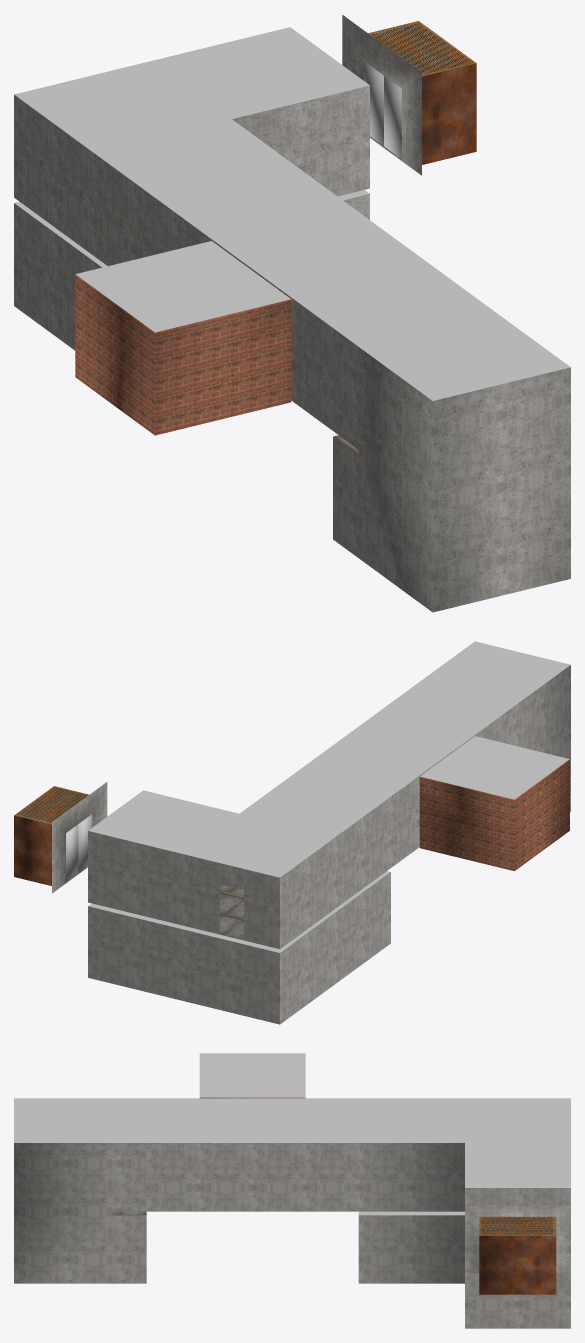
File: LabirintEditor.fbx
3 views of the same model, one above another, from view 1: azimuth 30°, elevation 25°; view 2: azimuth 150°, elevation 25°; view 3: azimuth 270°, elevation 25° (orthographic). The views are drawn at different scales.
Parts seen in each view (by area): view 1: Wals.6, Up.2.2, Wals.2, Wals.5, Up, Up.7, Up.6, Wals.3, Wals, Lift, Lipht, Wals_Door (+3 smaller); view 2: Up.2.2, Wals.3, Wals.2, Wals.5, Up, DopWall2.2, Up.7, DopWall2, Up.6, Wals.6, Wals, Lift (+7 smaller); view 3: Wals.6, Up.2.2, Wals_Door, Up, Wals.2, Wals.3, Wals, Up.7, Up.6, Lift, DpWal.2, Lipht (+3 smaller).
Part boxes in pixels (x1,y1,x2,y2): Wals.6: (333,328,570,612); Up.2.2: (14,27,369,211); Wals.2: (14,85,369,265); Wals.5: (75,274,291,435); Up: (174,177,470,327); Up.7: (333,294,570,400); Up.6: (75,241,290,332); Wals.3: (14,194,369,350); Wals: (173,212,332,430); Lift: (422,63,476,164); Lipht: (342,15,421,175); Wals_Door: (173,213,332,428); Up.2.2: (88,773,390,877); Wals.3: (88,872,390,1024); Wals.2: (88,797,390,948); Wals.5: (419,759,569,871); Up: (295,692,501,796); DopWall2.2: (184,929,279,1024); Up.7: (406,641,570,715); DopWall2: (184,854,279,949); Up.6: (420,736,569,799); Wals.6: (501,665,570,811); Wals: (391,716,501,867); Lift: (14,815,51,885); Wals.6: (14,1143,146,1283); Up.2.2: (358,1098,570,1187); Wals_Door: (146,1143,358,1211); Up: (146,1098,358,1142); Wals.2: (358,1143,464,1211); Wals.3: (358,1215,464,1283); Wals: (146,1143,358,1211); Up.7: (14,1098,146,1142); Up.6: (199,1053,305,1097); Lift: (479,1235,556,1294); DpWal.2: (465,1273,570,1328); Lipht: (465,1204,570,1273).
Size of the model in its own units: 1540 by 585 by 2100.
